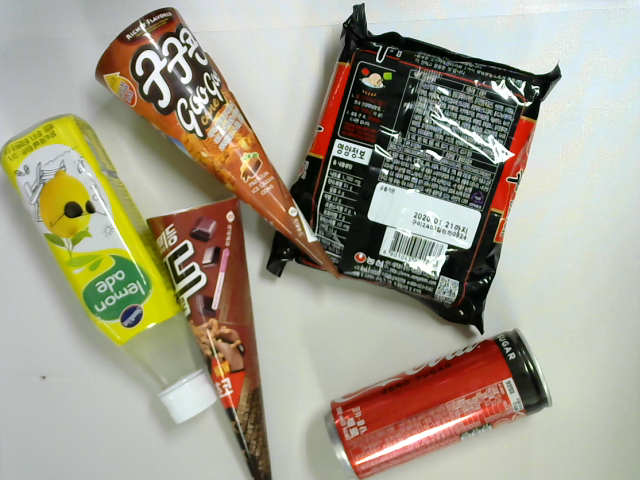Coca_Cola_Zero_Can_250ml: (323, 328, 556, 480)
GooGoo_Cone_CVS: (88, 6, 341, 287)
Sinramen_Black: (265, 1, 563, 336)
Sunkist_Lemonaid_Pet: (1, 109, 223, 431)
World_Cone_Choco: (143, 196, 272, 480)
